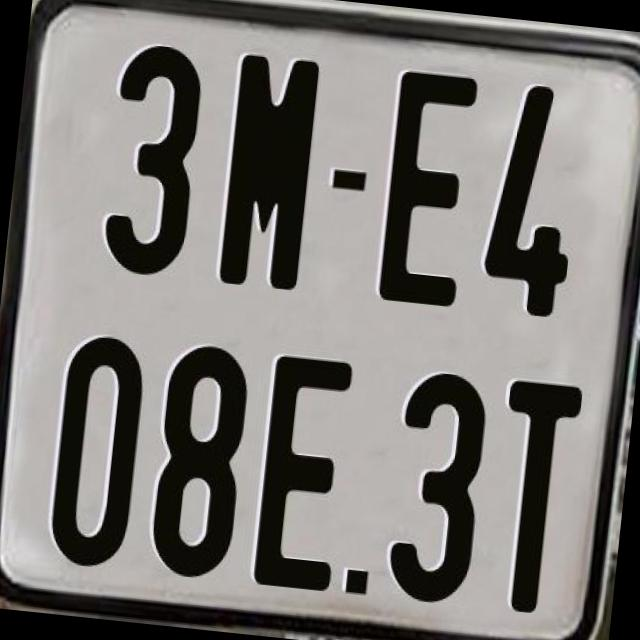0: (46, 328, 154, 572)
3: (383, 369, 491, 609), (101, 42, 205, 280)
4: (475, 82, 587, 324)
8: (147, 340, 257, 583)
E: (252, 352, 358, 593), (374, 64, 476, 304)
M: (215, 49, 325, 289)
T: (484, 375, 584, 622)
